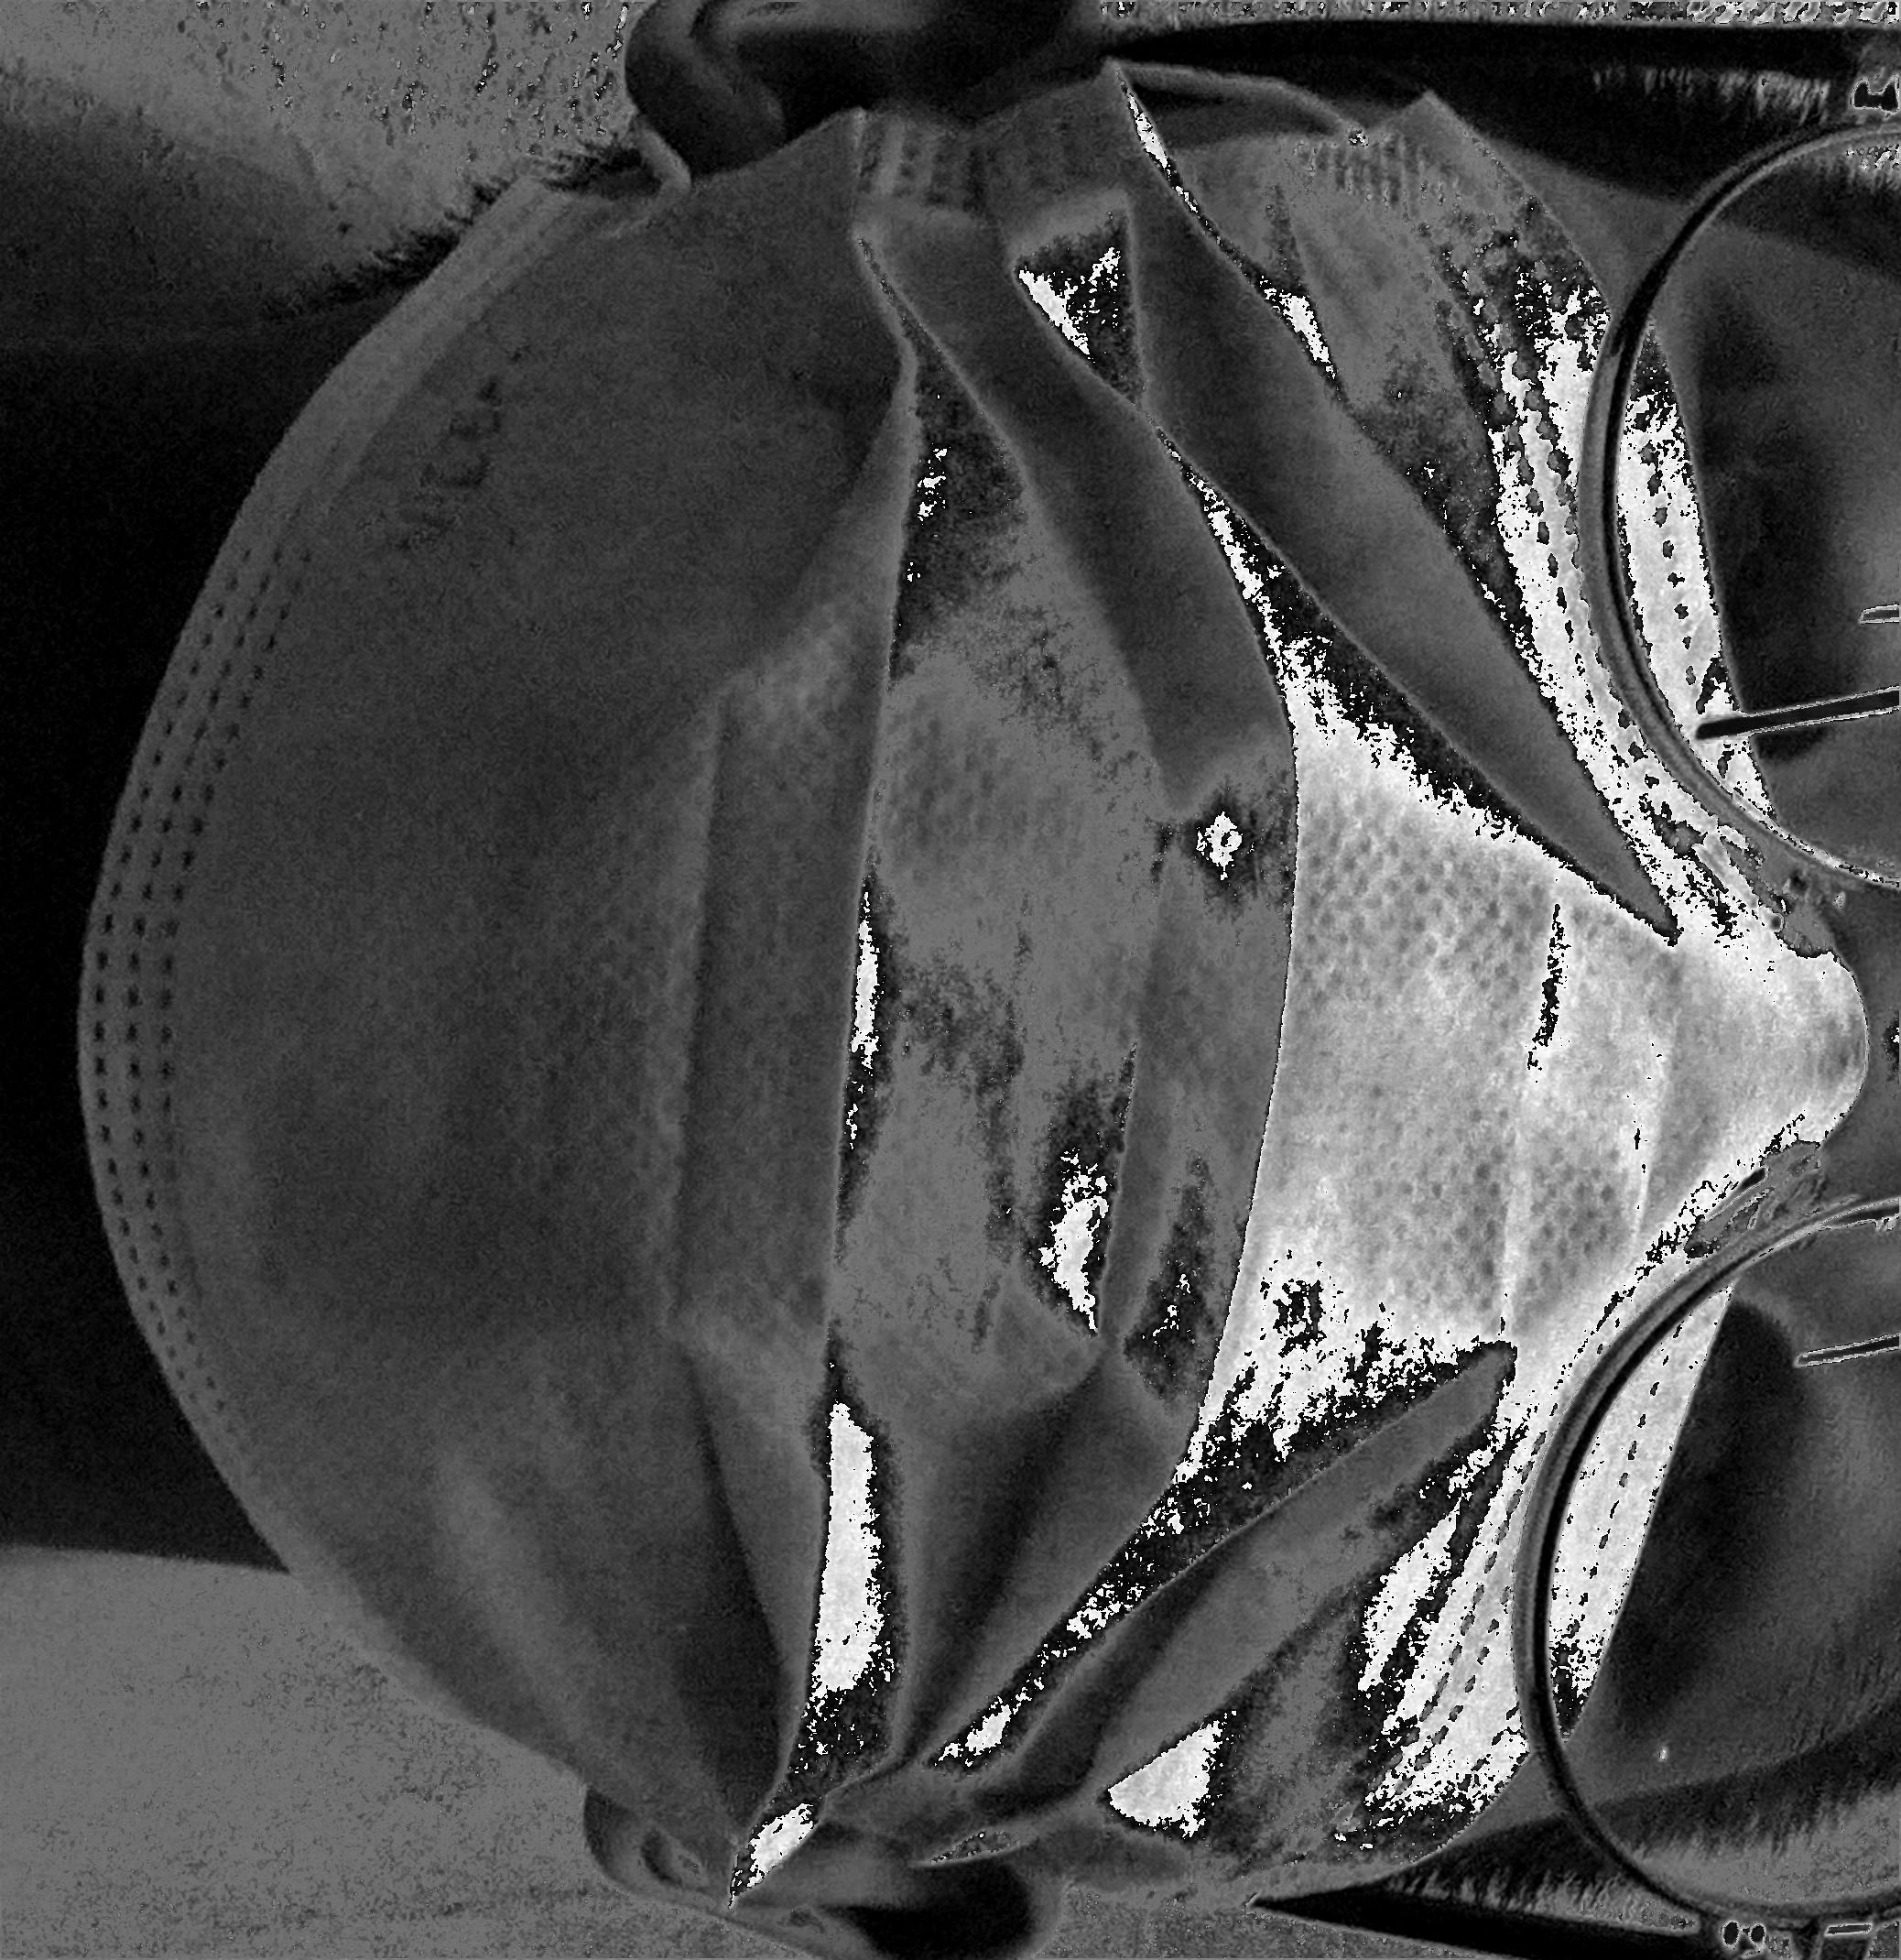Low GSM: (1271, 695, 1633, 1424)
